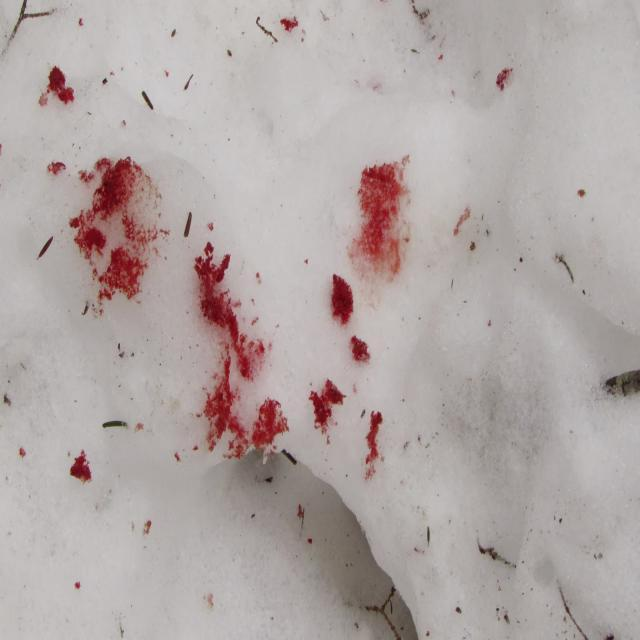wound: (58, 126, 196, 347), (180, 210, 294, 475), (293, 228, 409, 470), (340, 126, 430, 289), (38, 423, 118, 500)
